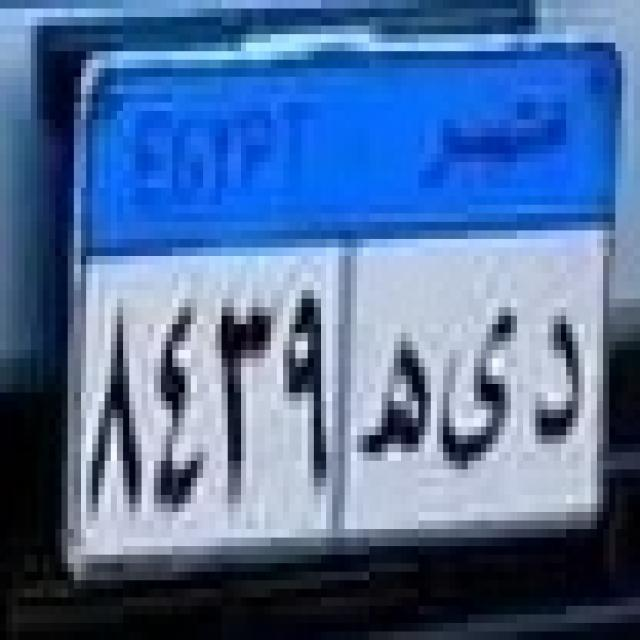3: (214, 283, 278, 499)
4: (154, 280, 208, 522)
8: (84, 298, 150, 526)
9: (278, 284, 338, 496)
Heeh: (368, 322, 436, 469)
Yeeh: (443, 284, 515, 477)
daal: (534, 294, 588, 452)
